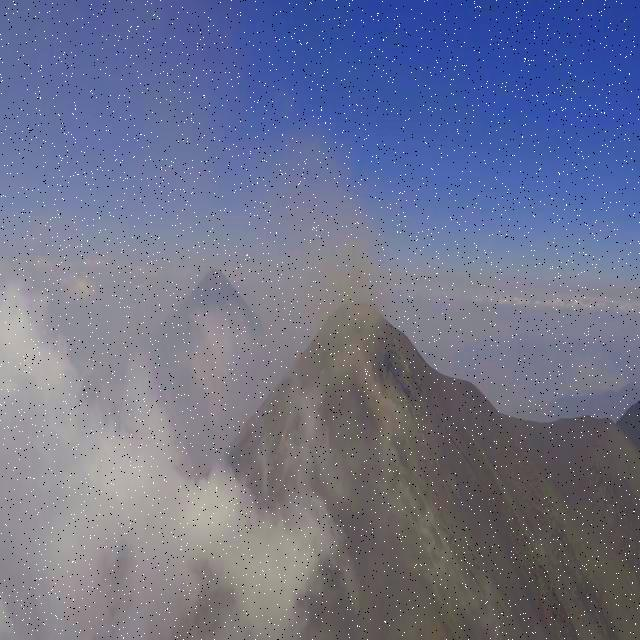Summit: (225, 274, 522, 457)
